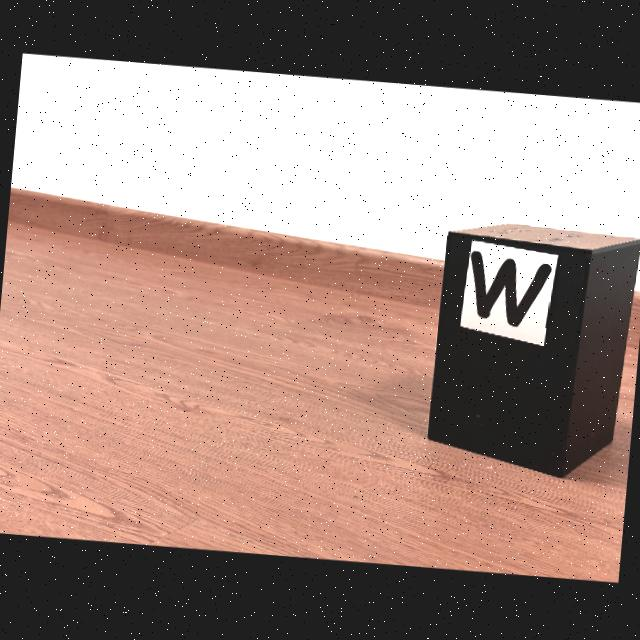W: (471, 252, 552, 326)
